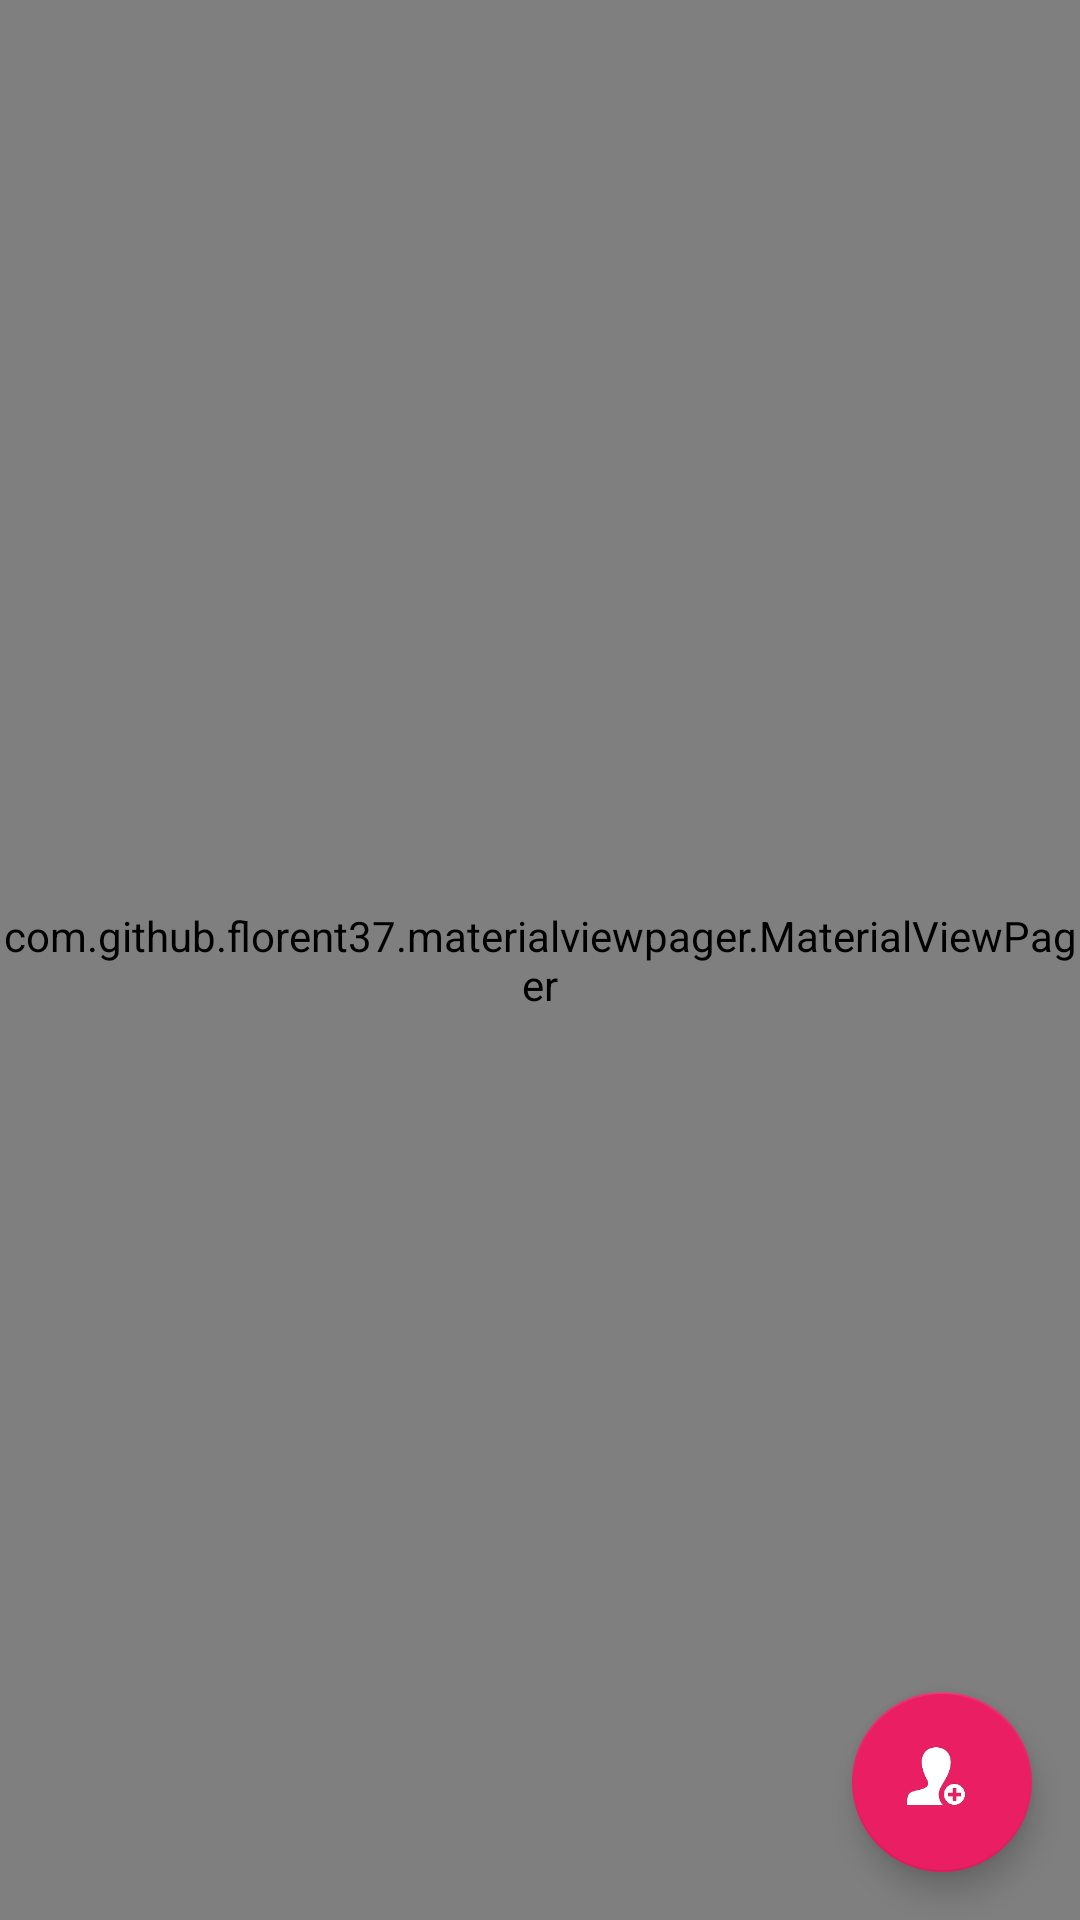

Named icons in this screenshot (1080×1920) and their bounding boxes, [x1=x1, y1=y1, x2=x2, y2=y2]:
reg: [x1=852, y1=1692, x2=1032, y2=1872]
